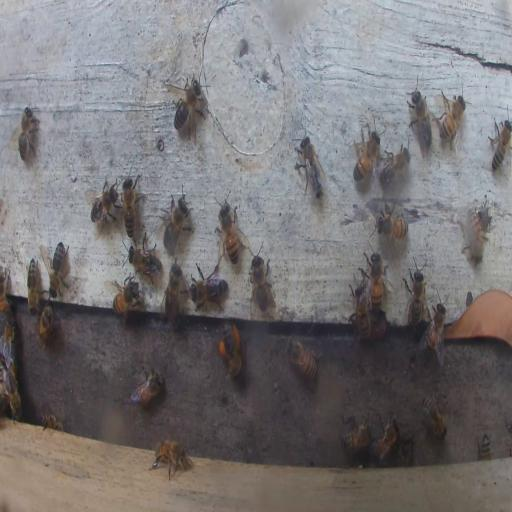nonpollenbee: (170, 74, 209, 140), (161, 187, 192, 253), (296, 134, 326, 198), (406, 80, 433, 150), (150, 438, 194, 480), (88, 177, 121, 231), (419, 302, 447, 361), (347, 274, 372, 340), (188, 266, 226, 309), (218, 193, 240, 265), (352, 126, 380, 182), (404, 257, 426, 328), (440, 90, 467, 147), (466, 201, 490, 263), (286, 336, 320, 378), (15, 105, 40, 162), (250, 248, 272, 312), (378, 143, 410, 187), (121, 173, 144, 234), (128, 366, 163, 406), (47, 239, 70, 299), (112, 274, 142, 318), (371, 416, 399, 463), (489, 116, 512, 172), (129, 238, 161, 278), (373, 207, 409, 242), (162, 262, 182, 324), (422, 393, 448, 439), (341, 420, 372, 456), (3, 360, 20, 418), (370, 254, 382, 313), (27, 258, 39, 315), (38, 304, 54, 341), (0, 272, 12, 320), (397, 436, 414, 466), (40, 411, 63, 430), (478, 431, 492, 461), (2, 320, 14, 355)
pollenbee: (219, 319, 243, 381)
